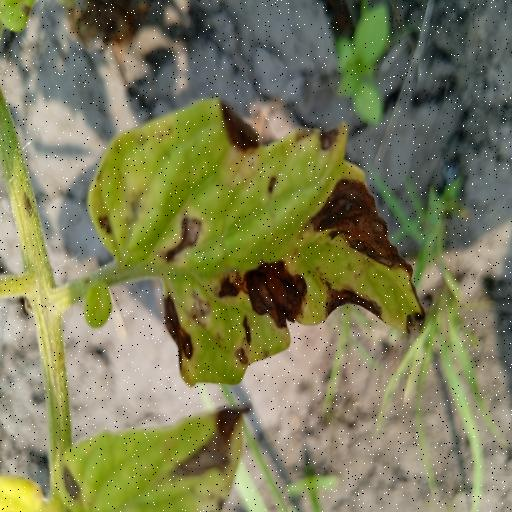Tomato_Brown_Spots: (91, 92, 431, 390)
